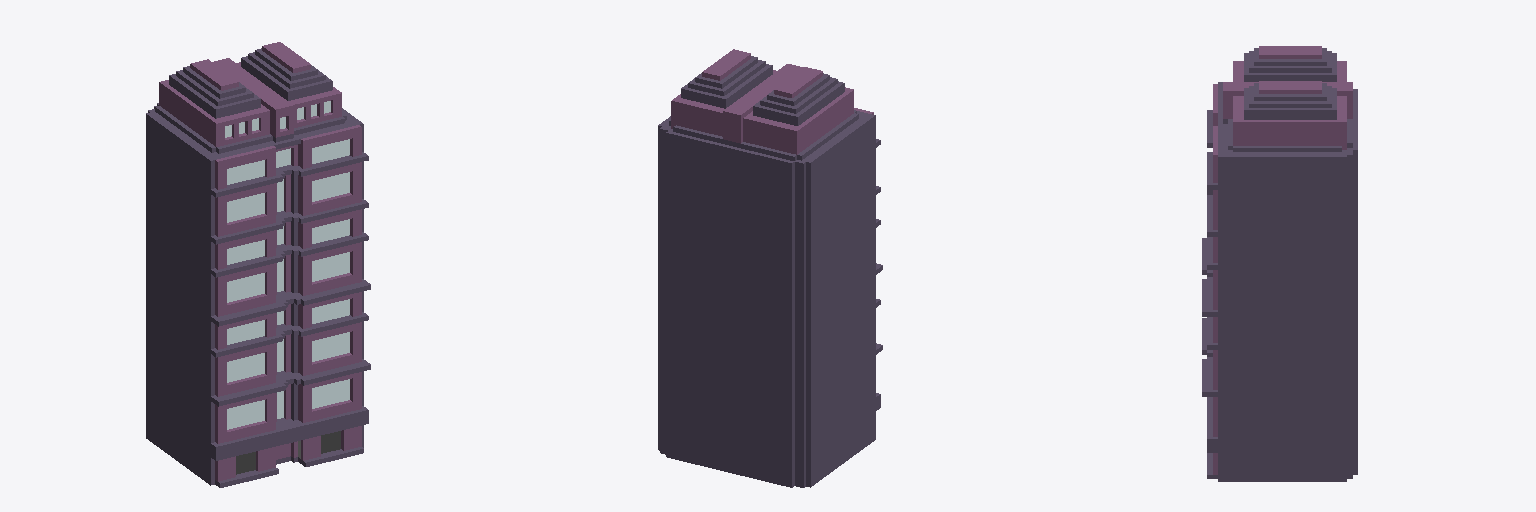
3 views of the same model, side by side, from view 1: azimuth 30°, elevation 25°; view 2: azimuth 150°, elevation 25°; view 3: azimuth 270°, elevation 25° (orthographic).
Size of the model in its own units: 34 by 80 by 30.
Materials: 1 (1 with a texture image).